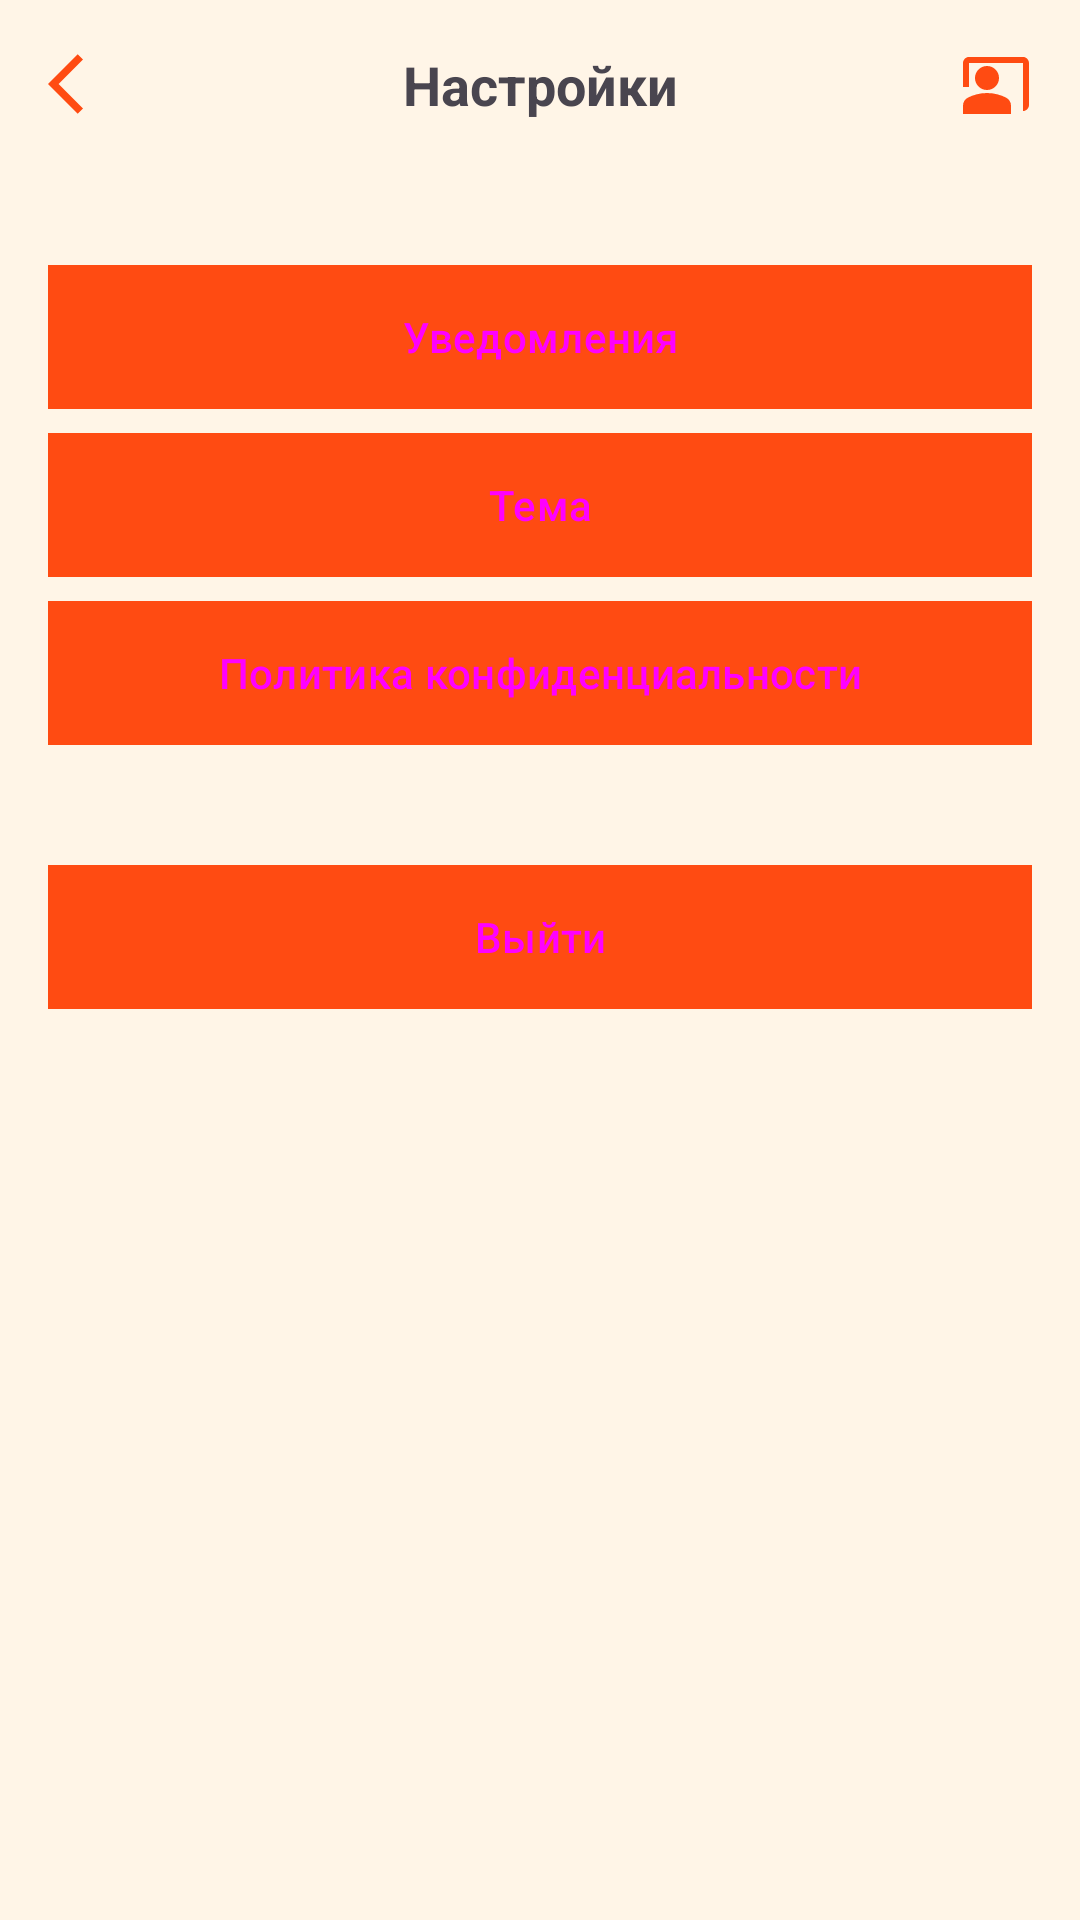

Locate icon controls on the screen. Image size 1080 x 1920, boxes as box=[x1, y1, x2, y2].
arrow back: box=[48, 54, 83, 114]
profile: box=[963, 57, 1029, 114]
